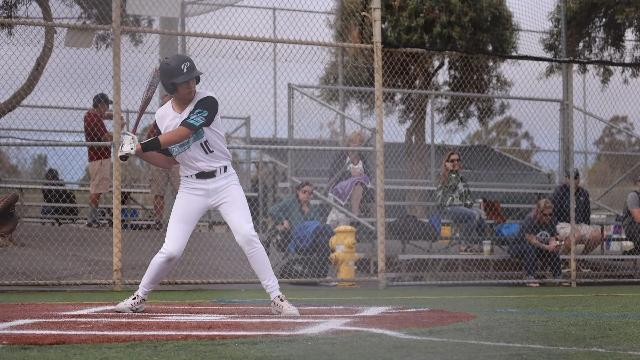bat: (130, 68, 160, 134)
